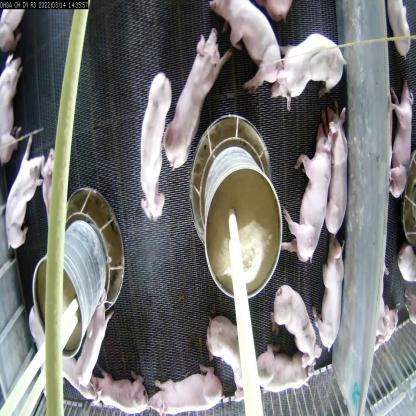Pig: (165, 29, 229, 173), (277, 125, 334, 265), (211, 0, 283, 94), (204, 304, 259, 402), (275, 31, 347, 105), (67, 298, 117, 394), (318, 90, 351, 232), (139, 73, 169, 219), (148, 357, 223, 415), (2, 137, 41, 247), (276, 277, 320, 368), (315, 238, 346, 355), (89, 357, 151, 415), (38, 153, 72, 245), (254, 346, 312, 398), (0, 53, 20, 172)
